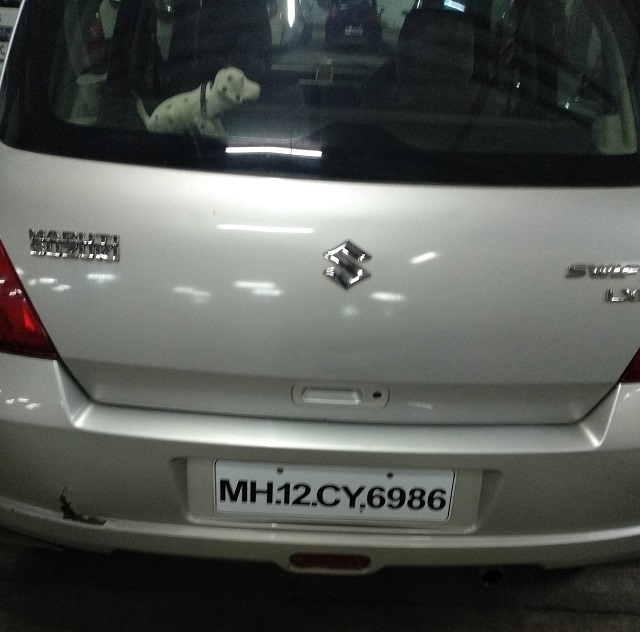licenseplate: (213, 455, 460, 528)
